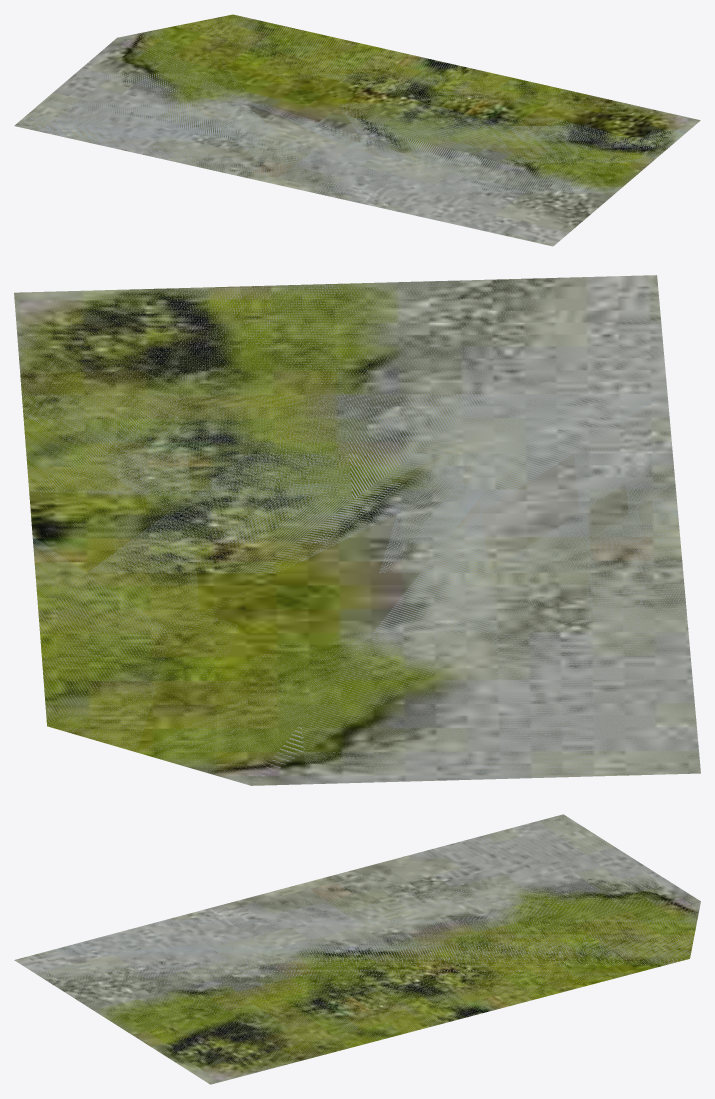
The model's file is 西庸城堡230.dae.
3 views of the same model, one above another, from view 1: azimuth 30°, elevation 25°; view 2: azimuth 150°, elevation 25°; view 3: azimuth 270°, elevation 25° (orthographic). The views are drawn at different scales.
Visible parts, largest first — view 1: SketchUp; view 2: SketchUp; view 3: SketchUp.
Part boxes in pixels (x1,y1,x2,y2): SketchUp: [14, 14, 700, 246]; SketchUp: [14, 275, 700, 785]; SketchUp: [14, 814, 700, 1084].
Size of the model in its own units: 661 by 710 by 0.
